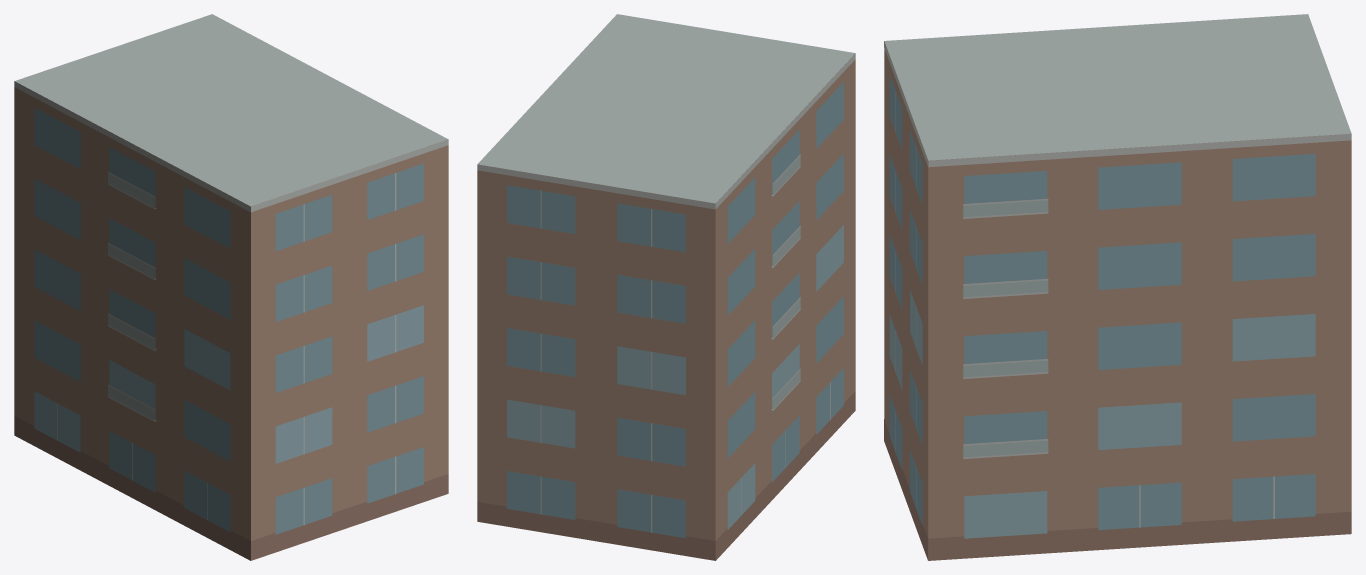
The model's file is survey-upis-32523897.glb.
The picture shows the model from 3 angles, left to right: view 1: azimuth 30°, elevation 25°; view 2: azimuth 150°, elevation 25°; view 3: azimuth 270°, elevation 25°; orthographic projection. The views are drawn at different scales.
Visible parts, largest first — view 1: survey-upis-32523897.tmp; view 2: survey-upis-32523897.tmp; view 3: survey-upis-32523897.tmp.
Boxes of the visible parts, x1,y1,x2,y2 form: survey-upis-32523897.tmp: (14, 14, 448, 560); survey-upis-32523897.tmp: (477, 14, 855, 560); survey-upis-32523897.tmp: (884, 14, 1351, 560).
Size of the model in its own units: 11.55 by 14.7 by 15.57.
